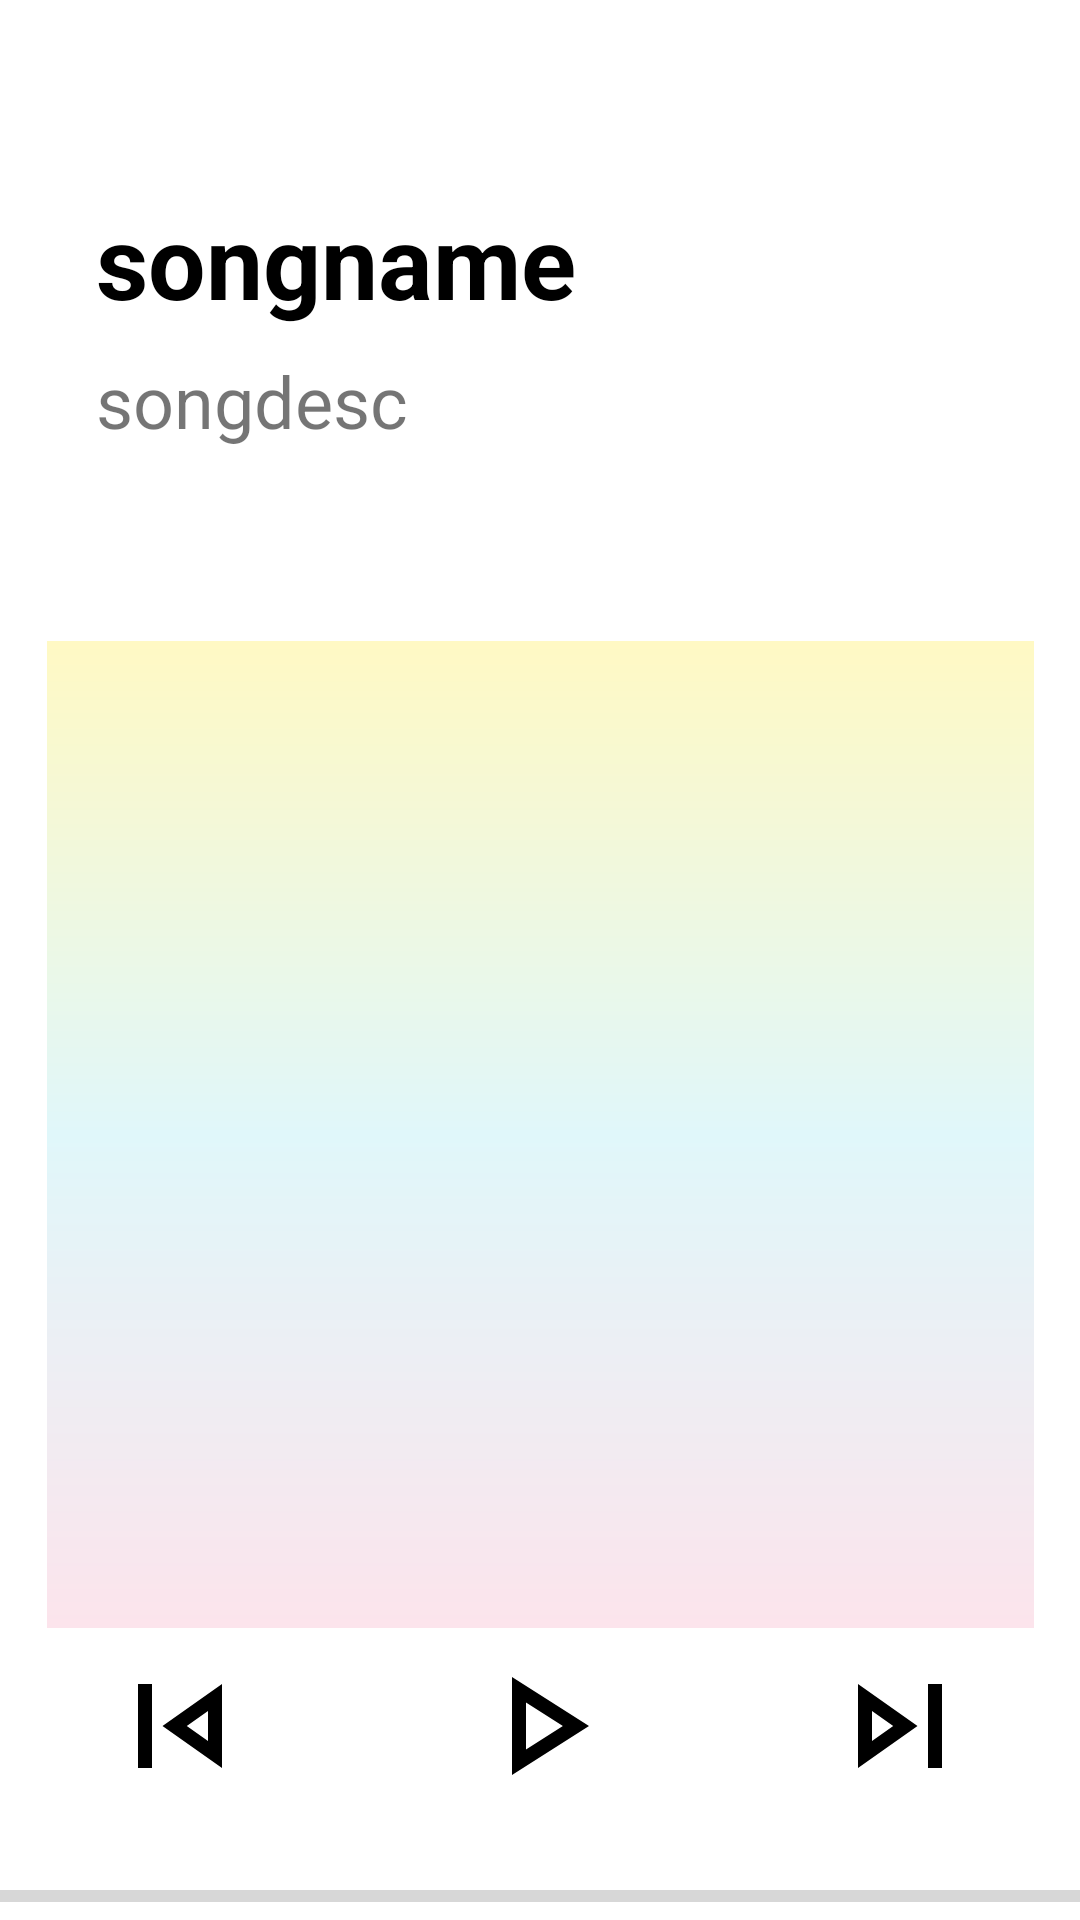

Icons on this 1080 × 1920 Android screen, each with its box as (x1, y1, x2, y2):
play arrow: (512, 1677, 589, 1775)
skip next: (858, 1684, 942, 1768)
skip previous: (138, 1684, 222, 1768)
